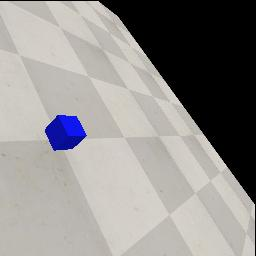box: (45, 115, 87, 151)
